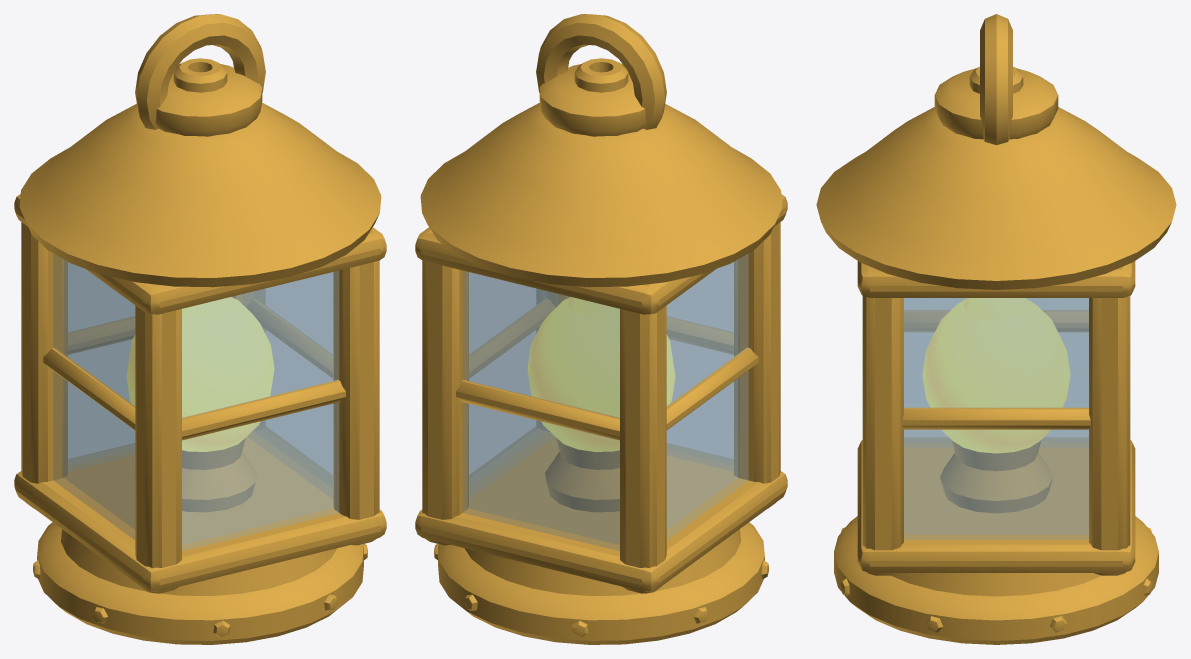
Rendered from part_lamp.glb.
3 views of the same model, side by side, from view 1: azimuth 30°, elevation 25°; view 2: azimuth 150°, elevation 25°; view 3: azimuth 270°, elevation 25° (orthographic).
Visible parts, largest first — view 1: Lamp; view 2: Lamp; view 3: Lamp.
Part boxes in pixels (box(x1,y1,x2,y2)): Lamp: box(14, 14, 386, 644); Lamp: box(415, 14, 787, 644); Lamp: box(816, 14, 1176, 644).
Size of the model in its own units: 0.35 by 0.6 by 0.35.
